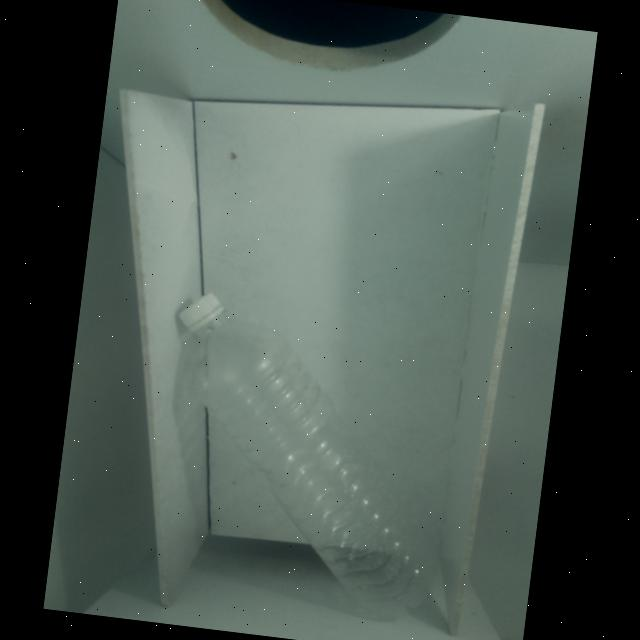trash: (125, 282, 469, 634)
